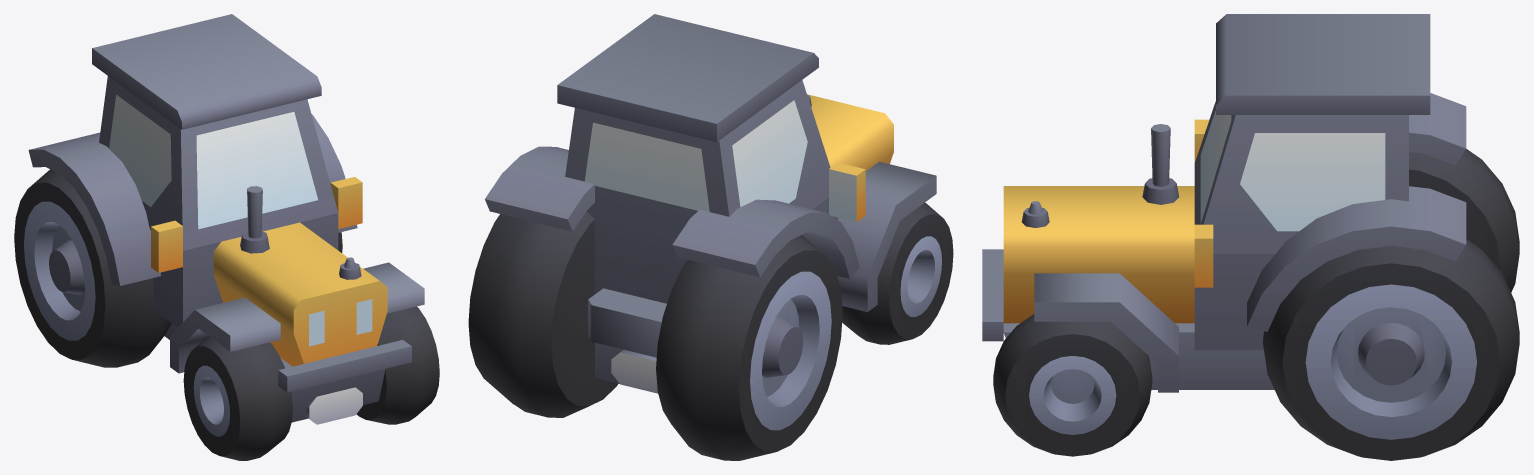
Rendered from mod-trator.gltf.
The picture shows the model from 3 angles, left to right: view 1: azimuth 30°, elevation 25°; view 2: azimuth 150°, elevation 25°; view 3: azimuth 270°, elevation 25°; orthographic projection. The views are drawn at different scales.
Parts seen in each view (by area): view 1: wheel-front-right; view 2: wheel-front-right; view 3: wheel-front-right.
Boxes of the visible parts, left/top/right/bottom form: wheel-front-right: left=14, top=14, right=439, bottom=460; wheel-front-right: left=468, top=14, right=953, bottom=460; wheel-front-right: left=982, top=14, right=1519, bottom=460.
Size of the model in its own units: 1.29 by 1.54 by 2.11.
1 material, 1 textured.
